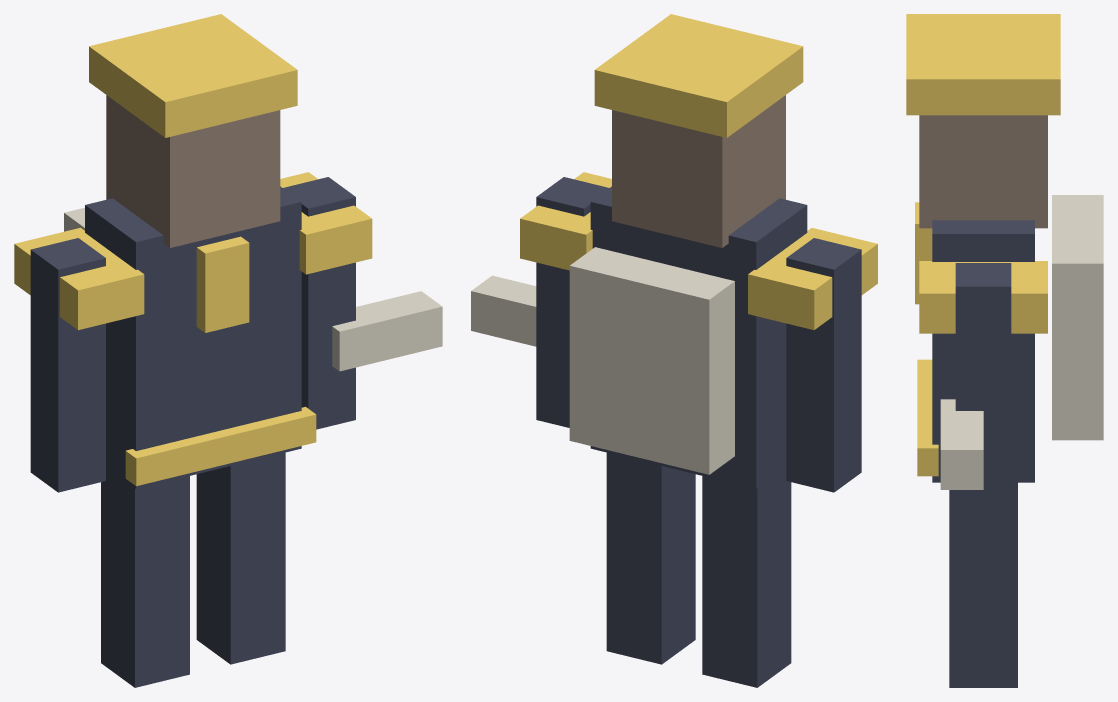
File: 05_sarai_deepwell_oracle_near_delivery.glb
3 renders of one model, left to right at view 1: azimuth 30°, elevation 25°; view 2: azimuth 150°, elevation 25°; view 3: azimuth 270°, elevation 25°, orthographic.
Visible parts, largest first — view 1: Sarai Deepwell, Oracle near Delivery; view 2: Sarai Deepwell, Oracle near Delivery; view 3: Sarai Deepwell, Oracle near Delivery.
Boxes of the visible parts, x1,y1,x2,y2 form: Sarai Deepwell, Oracle near Delivery: (14,14,442,687); Sarai Deepwell, Oracle near Delivery: (471,14,877,687); Sarai Deepwell, Oracle near Delivery: (906,14,1103,687).
Size of the model in its own units: 1.06 by 1.61 by 0.4759.
